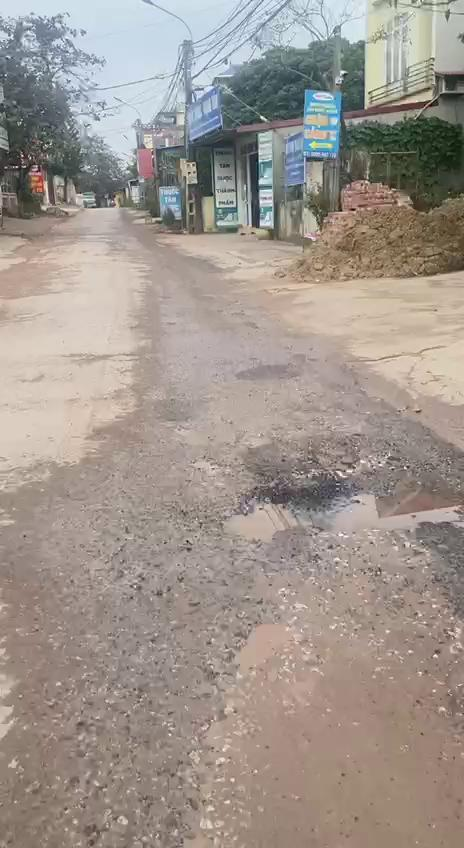pothole: (197, 436, 464, 848)
